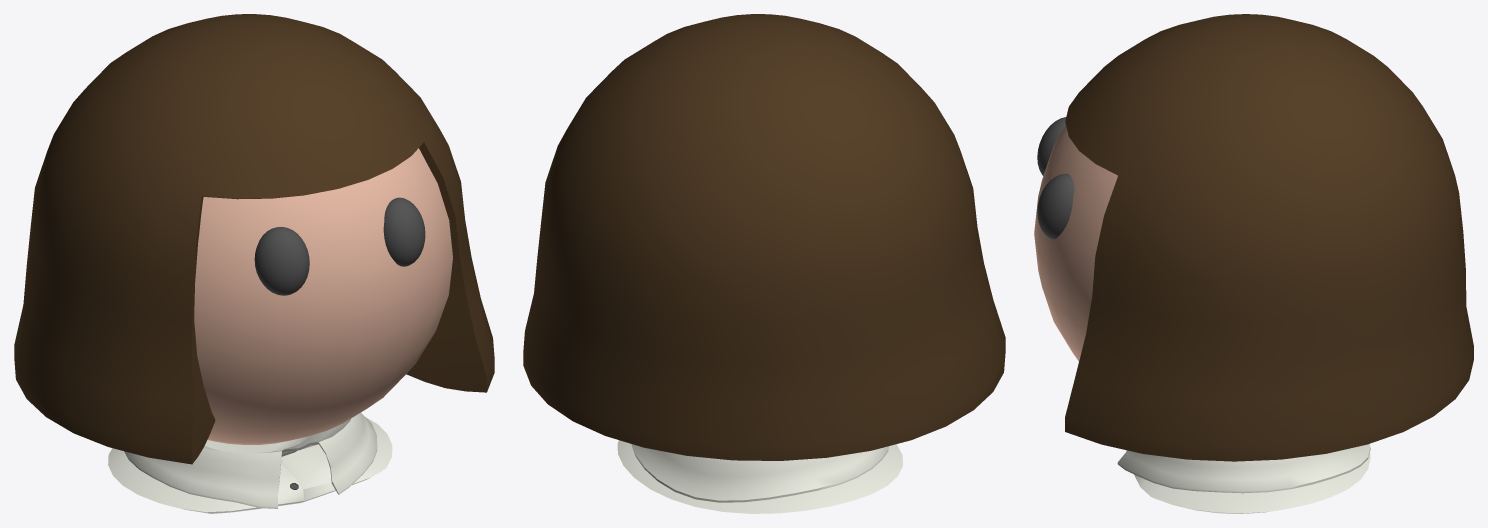
The model's file is Waitress_Head.fbx.
3 views of the same model, side by side, from view 1: azimuth 30°, elevation 25°; view 2: azimuth 150°, elevation 25°; view 3: azimuth 270°, elevation 25° (orthographic).
Visible parts, largest first — view 1: Waiter; view 2: Waiter; view 3: Waiter.
Boxes of the visible parts, box(x1,y1,x2,y2) form: Waiter: box(14, 14, 494, 513); Waiter: box(523, 14, 1005, 513); Waiter: box(1034, 14, 1473, 513).
Size of the model in its own units: 48.86 by 48.17 by 44.86.
